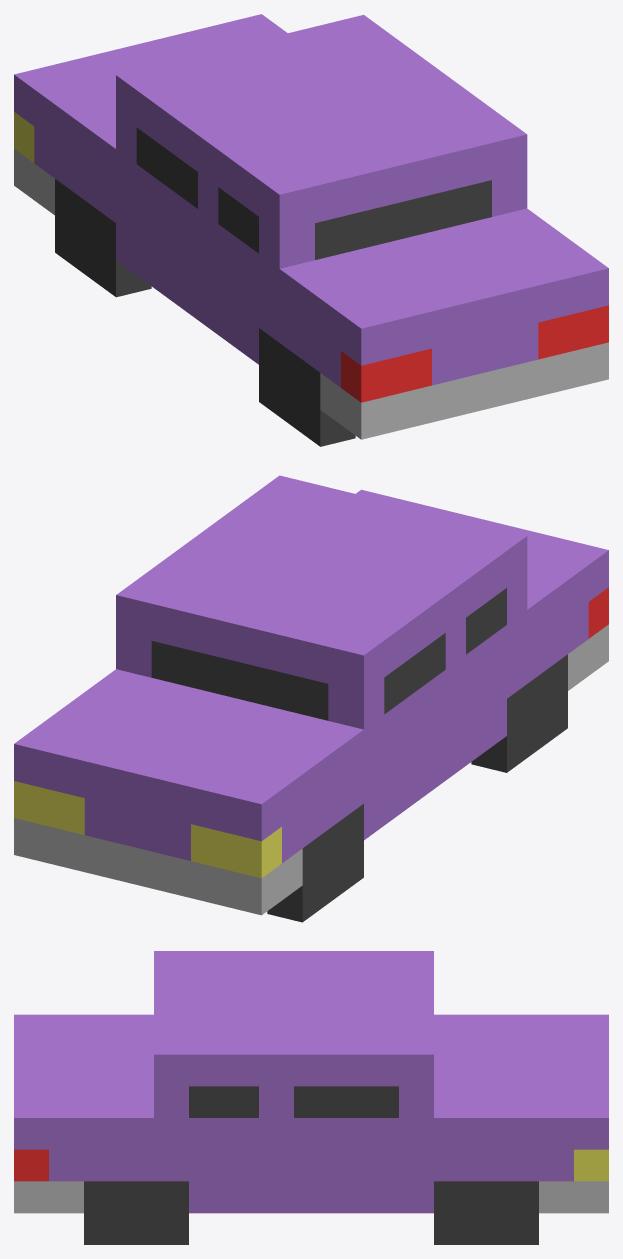
Rendered from cars-1-PurpleCar.obj.
The picture shows the model from 3 angles, top to bottom: view 1: azimuth 30°, elevation 25°; view 2: azimuth 150°, elevation 25°; view 3: azimuth 270°, elevation 25°; orthographic projection. The views are drawn at different scales.
Visible parts, largest first — view 1: PurpleCar; view 2: PurpleCar; view 3: PurpleCar.
Part boxes in pixels (x1,y1,x2,y2): PurpleCar: (14, 14, 608, 446); PurpleCar: (14, 475, 608, 922); PurpleCar: (14, 951, 608, 1244).
Bounding box in the file's own units: 0.7 × 0.6 × 1.7.
1 material, 1 textured.
